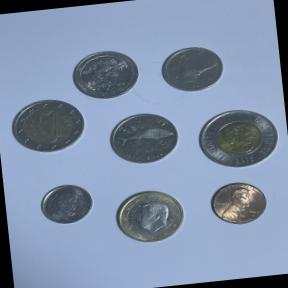1 Euro-B: (106, 182, 196, 252)
2 Euro-B: (5, 94, 91, 160)
Canada-10cent-B: (34, 177, 100, 231)
Canada-2Dollar-B: (189, 103, 286, 177)
Croatia-2Kune-B: (104, 108, 186, 172)
US-1cent-B: (202, 174, 276, 232)
US-25cent-B: (68, 45, 145, 105)
